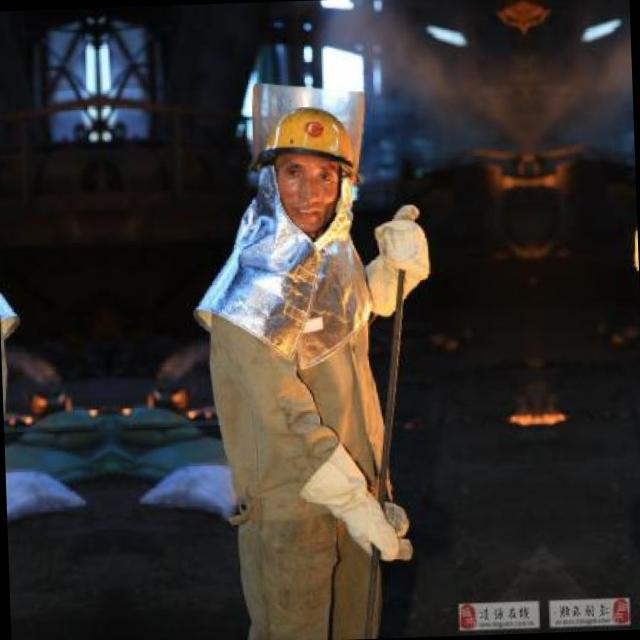helmet: (250, 77, 370, 238)
